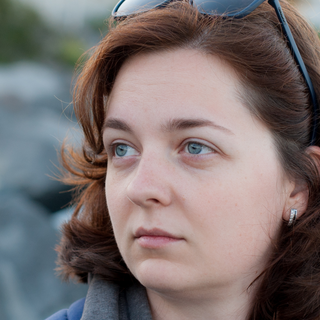eye: (172, 134, 222, 161), (107, 139, 140, 160)
